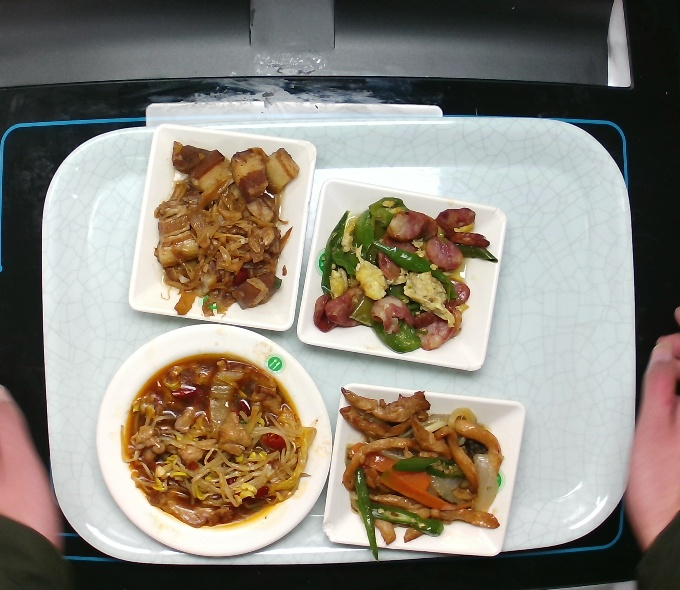wcq-HongShaoRou: (148, 132, 301, 320)
wcq-QingJiaoJiDanChaoDaChang: (310, 192, 499, 357)
wcq-QingJiaoRouSi: (336, 378, 505, 566)
wcq-ShuiZhuRouPian: (115, 346, 319, 534)
